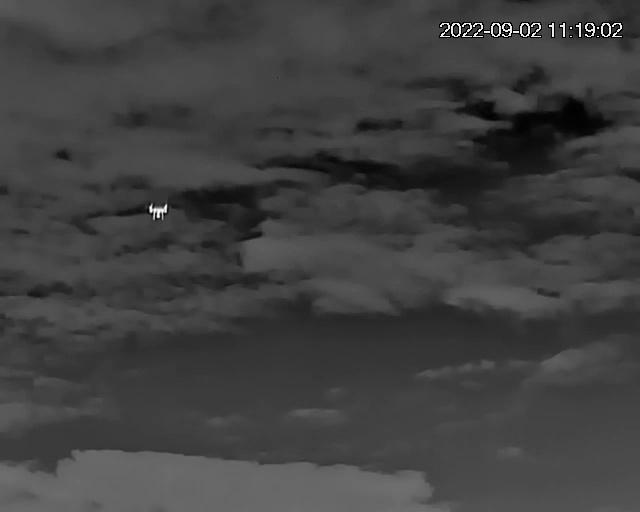DJI-Phantom: (147, 201, 171, 224)
